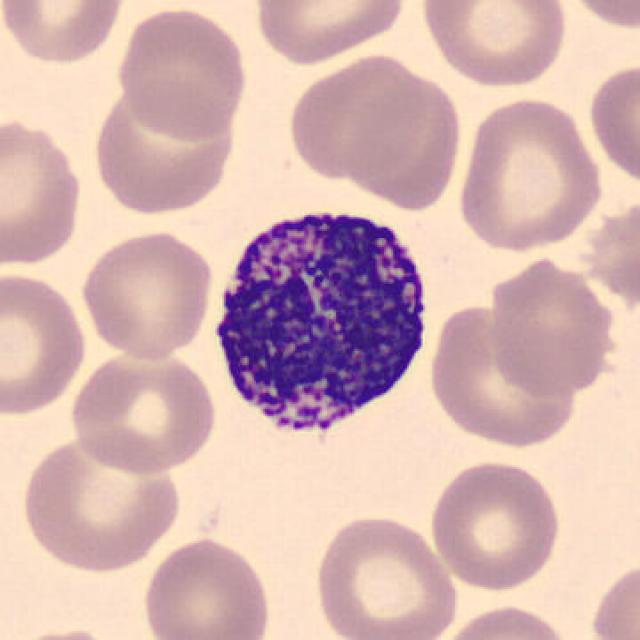Basophil: (199, 190, 439, 460)
RBC: (454, 94, 606, 255), (18, 432, 185, 575), (428, 300, 580, 450), (87, 78, 242, 218), (484, 250, 622, 400), (66, 344, 220, 478), (284, 51, 432, 183), (311, 509, 460, 640), (114, 3, 252, 143), (426, 455, 564, 592), (76, 228, 217, 362), (340, 65, 468, 212), (138, 534, 276, 640), (416, 0, 571, 90), (0, 113, 87, 271), (0, 268, 91, 418), (249, 0, 411, 67), (0, 0, 130, 67), (585, 55, 638, 192), (434, 601, 576, 640), (587, 555, 638, 640), (558, 0, 640, 33), (4, 626, 130, 640)
